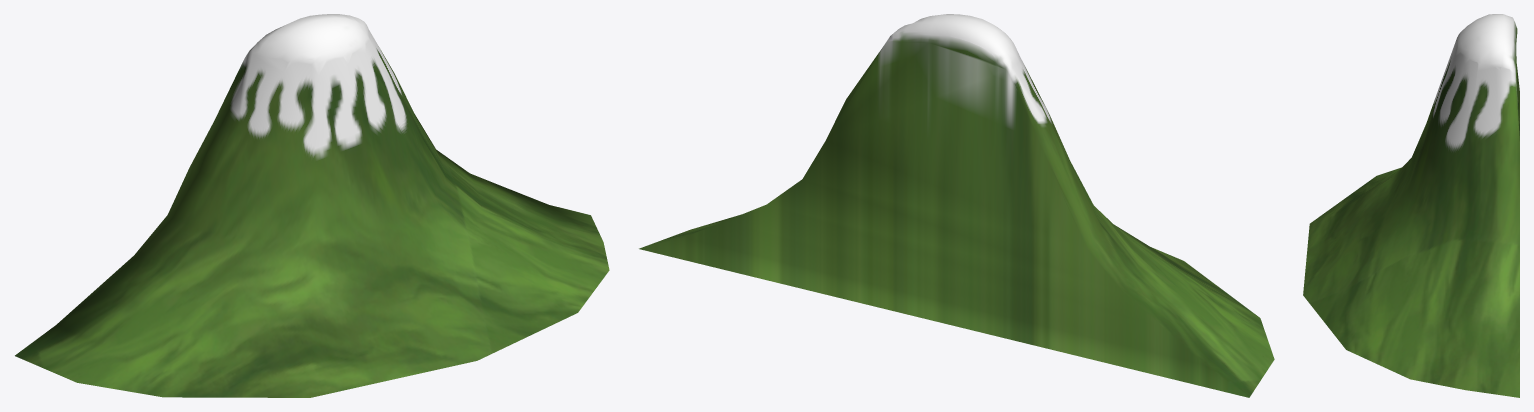
Rendered from montaña2.glb.
3 renders of one model, left to right at view 1: azimuth 30°, elevation 25°; view 2: azimuth 150°, elevation 25°; view 3: azimuth 270°, elevation 25°, orthographic. The views are drawn at different scales.
Visible parts, largest first — view 1: TableroBase.001; view 2: TableroBase.001; view 3: TableroBase.001.
Part boxes in pixels (box(x1,y1,x2,y2)): TableroBase.001: box(15, 14, 609, 397); TableroBase.001: box(639, 14, 1274, 397); TableroBase.001: box(1303, 14, 1519, 397).
Bounding box in the file's own units: 16.03 × 7.36 × 5.82.
1 material, 1 textured.
